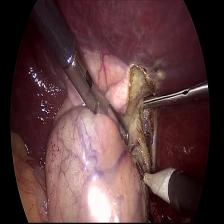Grasper: (71, 53, 133, 155), (139, 77, 201, 113)
Hook: (130, 152, 176, 211)
